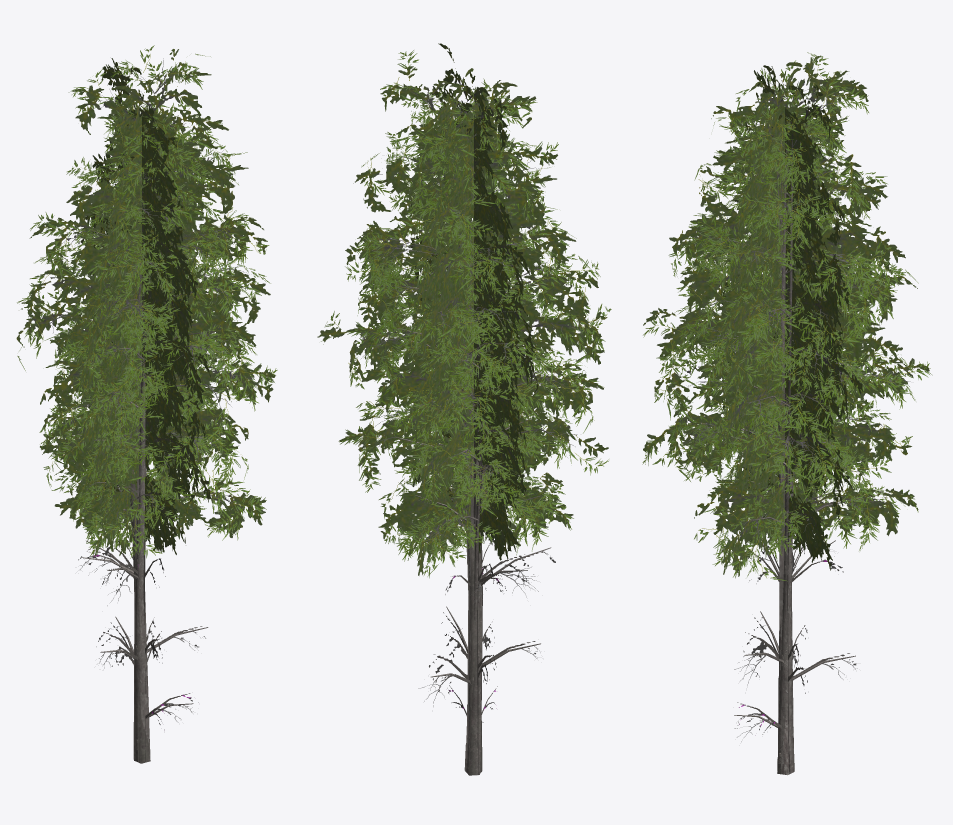
The model's file is eucalyptus.glb.
3 views of the same model, side by side, from view 1: azimuth 30°, elevation 25°; view 2: azimuth 150°, elevation 25°; view 3: azimuth 270°, elevation 25° (orthographic). The views are drawn at different scales.
Parts seen in each view (by area): view 1: Eucalyptus_A_far, Eucalyptus_C_far, Eucalyptus_A, Eucalyptus_C, Eucalyptus_B_far, Eucalyptus_B; view 2: Eucalyptus_A_far, Eucalyptus_C_far, Eucalyptus_C, Eucalyptus_A, Eucalyptus_B_far, Eucalyptus_B; view 3: Eucalyptus_C_far, Eucalyptus_A_far, Eucalyptus_C, Eucalyptus_A, Eucalyptus_B_far, Eucalyptus_B.
Part boxes in pixels (<box>): Eucalyptus_A_far: <box>25,96,267,759</box>; Eucalyptus_C_far: <box>16,49,275,761</box>; Eucalyptus_A: <box>25,94,269,761</box>; Eucalyptus_C: <box>17,45,277,761</box>; Eucalyptus_B_far: <box>51,224,215,762</box>; Eucalyptus_B: <box>52,223,215,763</box>; Eucalyptus_A_far: <box>345,101,608,774</box>; Eucalyptus_C_far: <box>317,43,590,745</box>; Eucalyptus_C: <box>321,50,592,755</box>; Eucalyptus_A: <box>345,94,611,775</box>; Eucalyptus_B_far: <box>397,225,572,772</box>; Eucalyptus_B: <box>397,220,572,772</box>; Eucalyptus_C_far: <box>643,55,929,773</box>; Eucalyptus_A_far: <box>643,93,911,773</box>; Eucalyptus_C: <box>643,52,932,773</box>; Eucalyptus_A: <box>642,98,913,775</box>; Eucalyptus_B_far: <box>707,226,870,771</box>; Eucalyptus_B: <box>707,227,872,774</box>.
Bounding box in the file's own units: 9.48 × 25.92 × 9.74.
5 materials, 5 textured.
